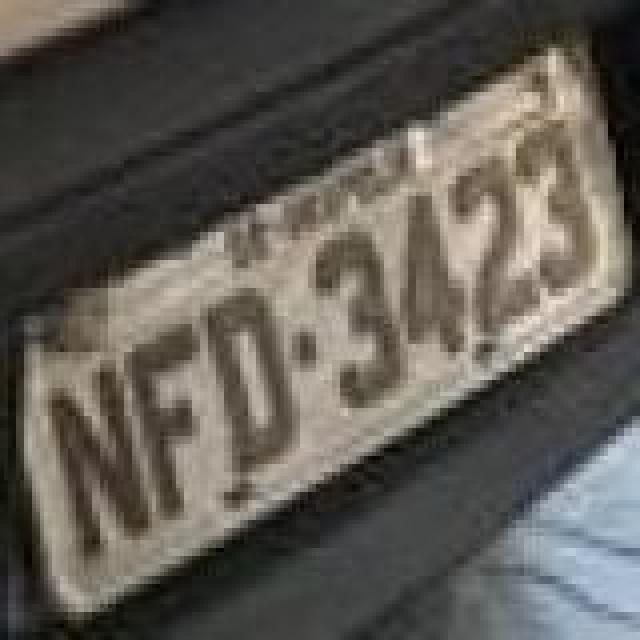2: (450, 156, 542, 332)
3: (312, 228, 408, 412), (514, 116, 606, 292)
4: (396, 188, 468, 356)
D: (198, 286, 298, 474)
F: (120, 316, 200, 516)
N: (48, 362, 152, 566)
